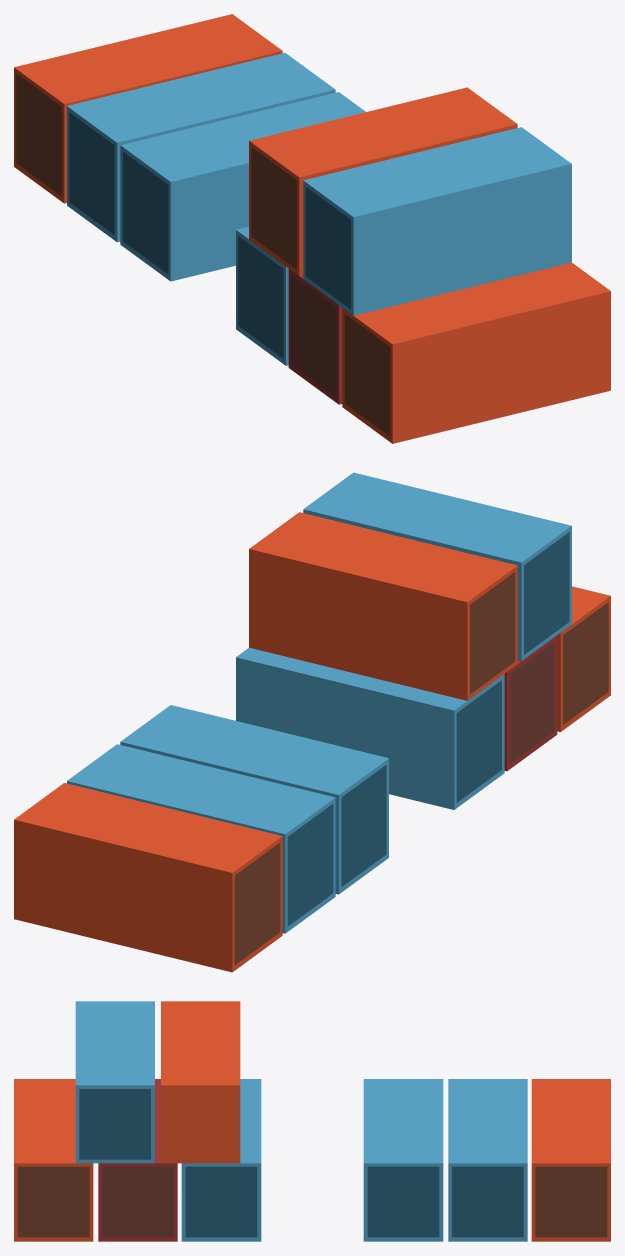
Rendered from model_polyfleet_prop_cargo_set.fbx.
3 views of the same model, one above another, from view 1: azimuth 30°, elevation 25°; view 2: azimuth 150°, elevation 25°; view 3: azimuth 270°, elevation 25° (orthographic). The views are drawn at different scales.
Visible parts, largest first — view 1: model_polyfleet_prop_cargo_set; view 2: model_polyfleet_prop_cargo_set; view 3: model_polyfleet_prop_cargo_set.
Boxes of the visible parts, x1,y1,x2,y2 form: model_polyfleet_prop_cargo_set: (14,14,610,443); model_polyfleet_prop_cargo_set: (14,472,610,972); model_polyfleet_prop_cargo_set: (14,1001,610,1241).
Bounding box in the file's own units: 613 × 532 × 1841.
